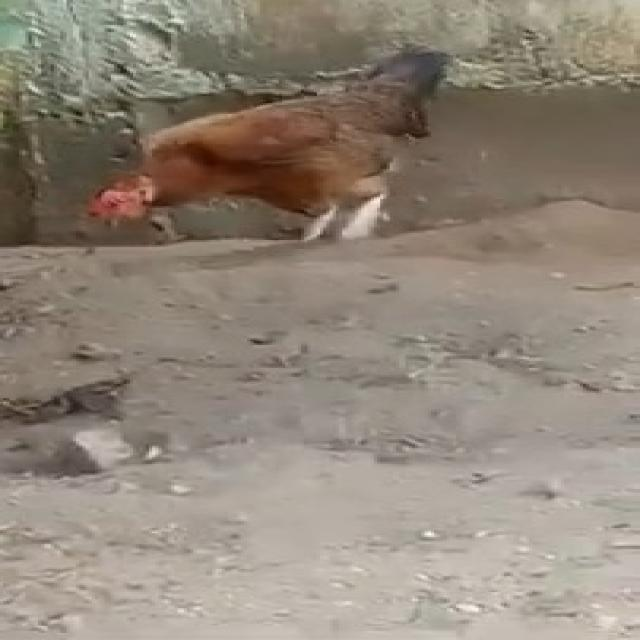stand bath: (80, 34, 498, 274)
